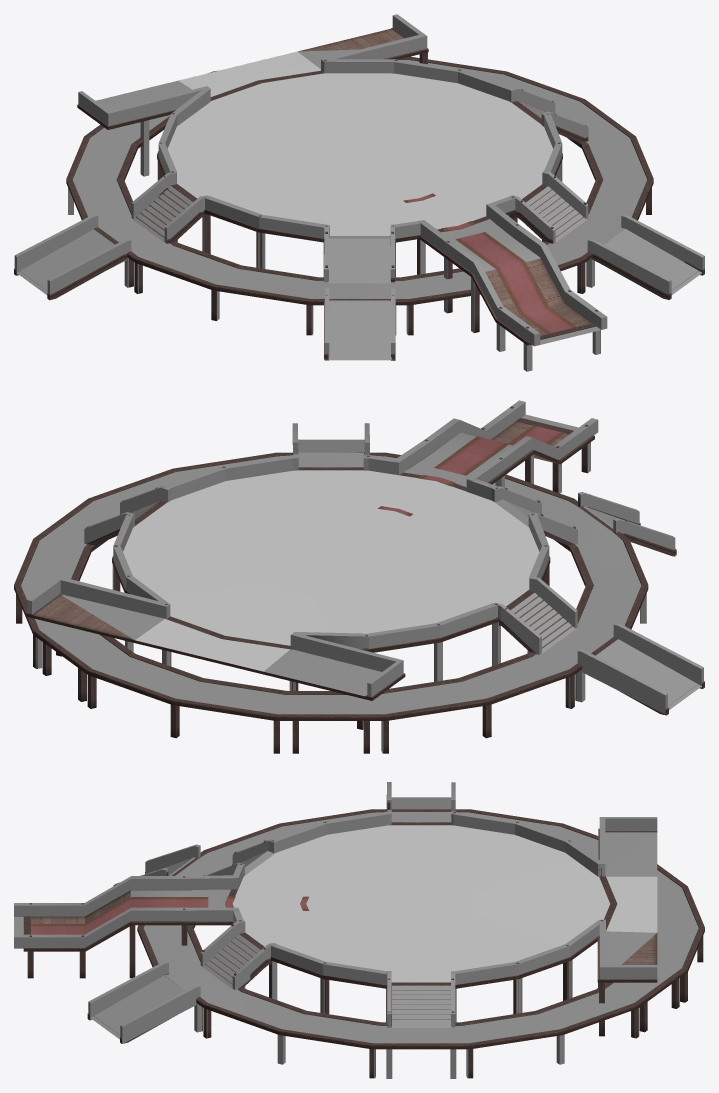
Rendered from Scene_Build_HuanYinFang_YuanTai_1.FBX.
3 views of the same model, one above another, from view 1: azimuth 30°, elevation 25°; view 2: azimuth 150°, elevation 25°; view 3: azimuth 270°, elevation 25° (orthographic). The views are drawn at different scales.
Parts seen in each view (by area): view 1: Scene_Build_HuanYinFang_YuanTai_1_P_Xzm, Scene_Build_HuanYinFang_YuanTai_1_Xzm, Scene_Build_HuanYinFang_YuanTai_1; view 2: Scene_Build_HuanYinFang_YuanTai_1_P_Xzm, Scene_Build_HuanYinFang_YuanTai_1_Xzm, Scene_Build_HuanYinFang_YuanTai_1; view 3: Scene_Build_HuanYinFang_YuanTai_1_P_Xzm, Scene_Build_HuanYinFang_YuanTai_1_Xzm, Scene_Build_HuanYinFang_YuanTai_1.
Boxes of the visible parts, left/top/right/bottom form: Scene_Build_HuanYinFang_YuanTai_1_P_Xzm: left=17, top=49, right=701, bottom=360; Scene_Build_HuanYinFang_YuanTai_1_Xzm: left=14, top=14, right=704, bottom=371; Scene_Build_HuanYinFang_YuanTai_1: left=14, top=28, right=704, bottom=370; Scene_Build_HuanYinFang_YuanTai_1_P_Xzm: left=21, top=414, right=701, bottom=714; Scene_Build_HuanYinFang_YuanTai_1_Xzm: left=27, top=400, right=703, bottom=753; Scene_Build_HuanYinFang_YuanTai_1: left=14, top=406, right=704, bottom=753; Scene_Build_HuanYinFang_YuanTai_1_P_Xzm: left=14, top=797, right=698, bottom=1043; Scene_Build_HuanYinFang_YuanTai_1_Xzm: left=14, top=782, right=657, bottom=1078; Scene_Build_HuanYinFang_YuanTai_1: left=23, top=794, right=704, bottom=1078.
Size of the model in its own units: 7027 by 840 by 7521.
